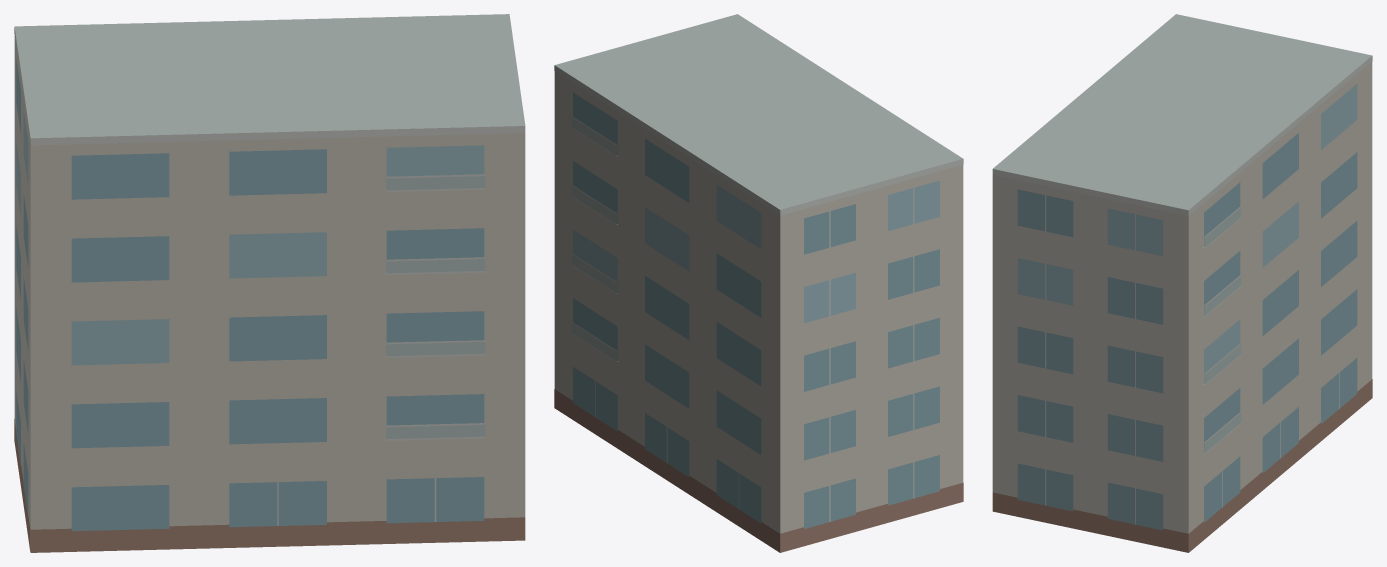
Rendered from survey-upis-32890945.glb.
The picture shows the model from 3 angles, left to right: view 1: azimuth 30°, elevation 25°; view 2: azimuth 150°, elevation 25°; view 3: azimuth 270°, elevation 25°; orthographic projection. The views are drawn at different scales.
Visible parts, largest first — view 1: survey-upis-32890945.tmp; view 2: survey-upis-32890945.tmp; view 3: survey-upis-32890945.tmp.
Part boxes in pixels (<box>): survey-upis-32890945.tmp: <box>14,14,525,552</box>; survey-upis-32890945.tmp: <box>554,14,963,552</box>; survey-upis-32890945.tmp: <box>992,14,1372,552</box>.
Size of the model in its own units: 17.7 by 14.4 by 14.48.
